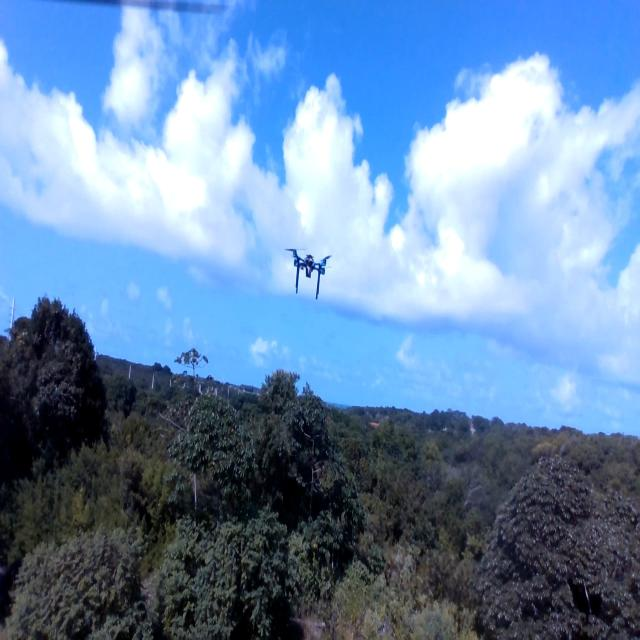-uav-: (280, 238, 345, 300)
